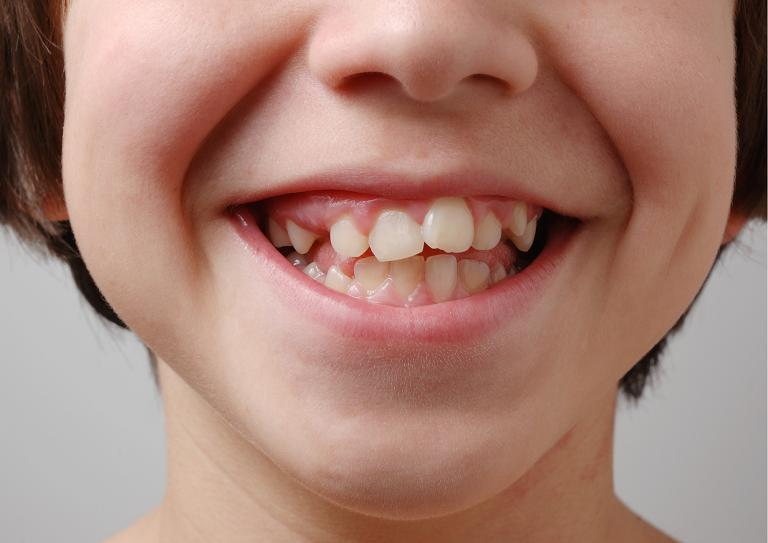Crowding: (375, 192, 478, 262)
Missing: (280, 213, 367, 262)
